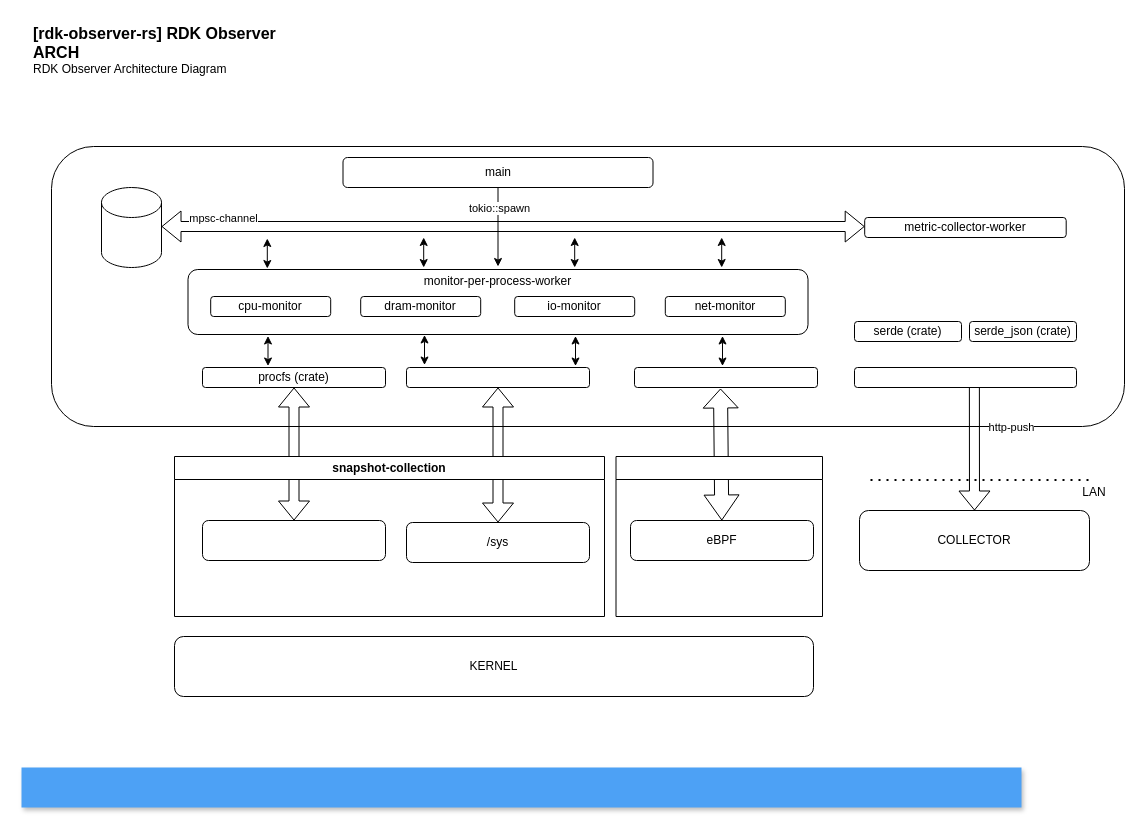
Image size: 1142x831. Some labels were removed from this diagram. The shapes that lost their labels are listed below. From the top down, each one's centre as x and y in pixels, then its label:
At (131,227): "process registry".
At (498,377): "sysfs (crate)".
At (726,377): "aya (crate)".
At (965,377): "reqwest (crate)".
At (294,540): "/proc".
At (718,536): "event-drive-collection".
At (522,788): "Architecture: rdk-observer-rs".
